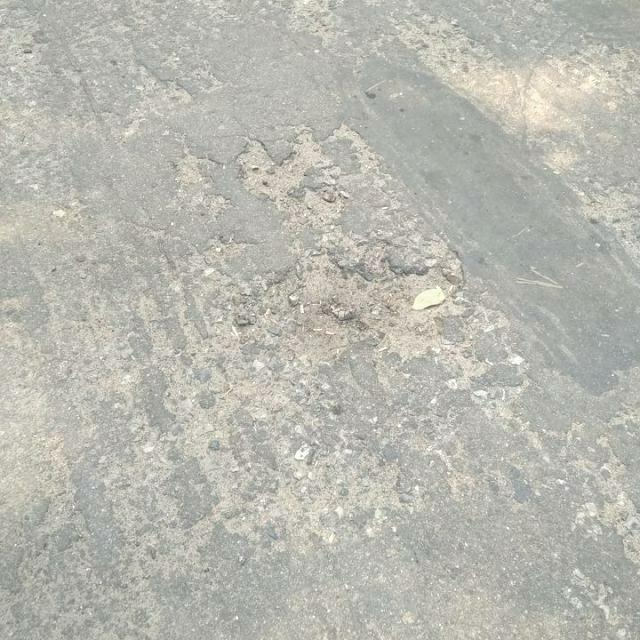Pothole: (252, 242, 474, 367), (234, 124, 376, 228)
